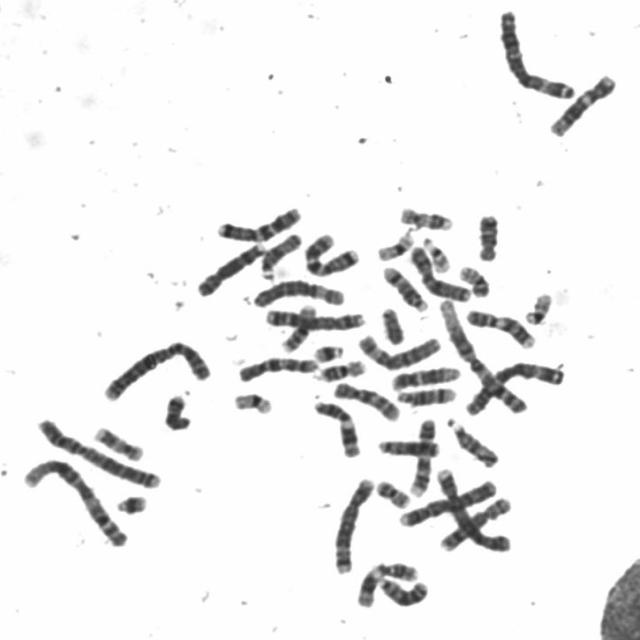A1: (432, 292, 530, 416), (16, 452, 132, 550)
A2: (31, 412, 165, 491), (96, 334, 214, 402)
A3: (494, 2, 578, 100), (459, 355, 568, 417)
B4: (432, 461, 514, 554), (394, 474, 500, 528)
B5: (328, 470, 376, 576), (260, 302, 368, 332)
C10: (329, 376, 404, 423), (233, 350, 321, 383)
C11: (352, 555, 422, 609), (308, 394, 363, 460)
C12: (544, 68, 620, 138), (386, 360, 464, 391)
C6: (352, 328, 444, 372), (249, 274, 349, 308)
C7: (212, 200, 304, 243), (299, 226, 363, 278)
C8: (436, 491, 516, 553), (191, 236, 269, 298)
C9: (461, 302, 538, 350), (404, 412, 439, 498)
D13: (373, 572, 432, 608), (374, 433, 443, 458)
D14: (378, 260, 431, 313), (391, 382, 460, 406)
D15: (442, 412, 502, 470), (256, 227, 305, 281)
E16: (277, 298, 320, 354), (311, 353, 369, 382)
E17: (88, 420, 146, 463), (394, 200, 456, 232)
E18: (472, 208, 502, 262), (159, 388, 194, 432)
F19: (372, 226, 418, 262), (228, 386, 276, 416)
F20: (372, 473, 414, 510), (453, 260, 492, 298)
G21: (110, 489, 150, 516), (309, 338, 347, 364)
G22: (418, 231, 454, 274), (519, 286, 556, 326)
X: (406, 240, 473, 304)
Y: (376, 301, 409, 346)
